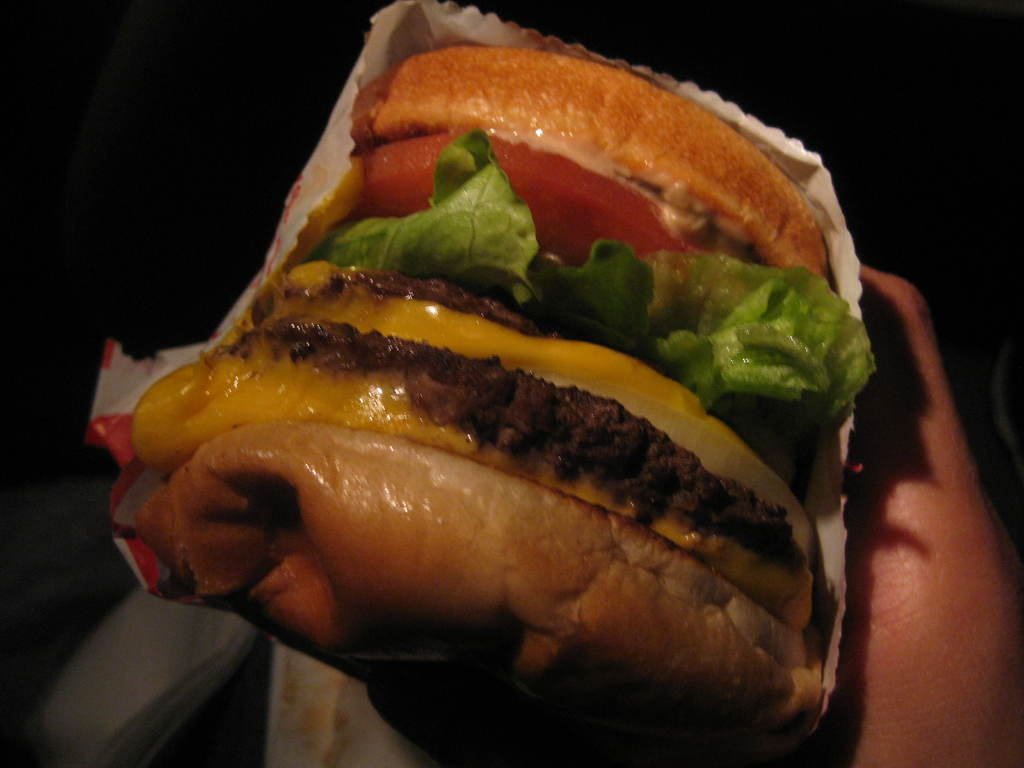Hamburger: (136, 48, 874, 744)
